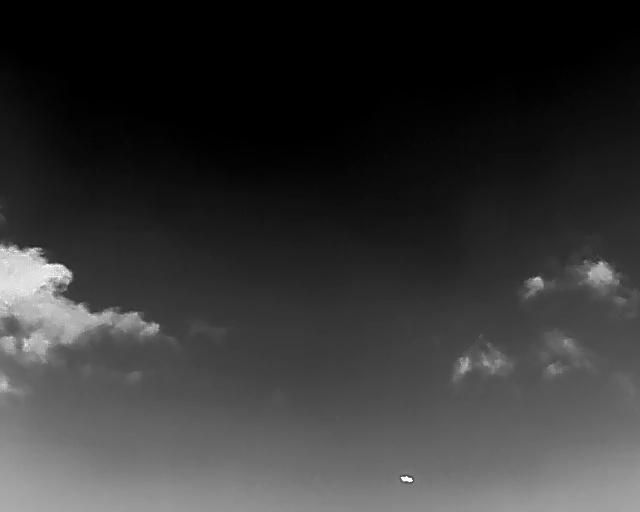fpv-drone: (399, 474, 413, 484)
